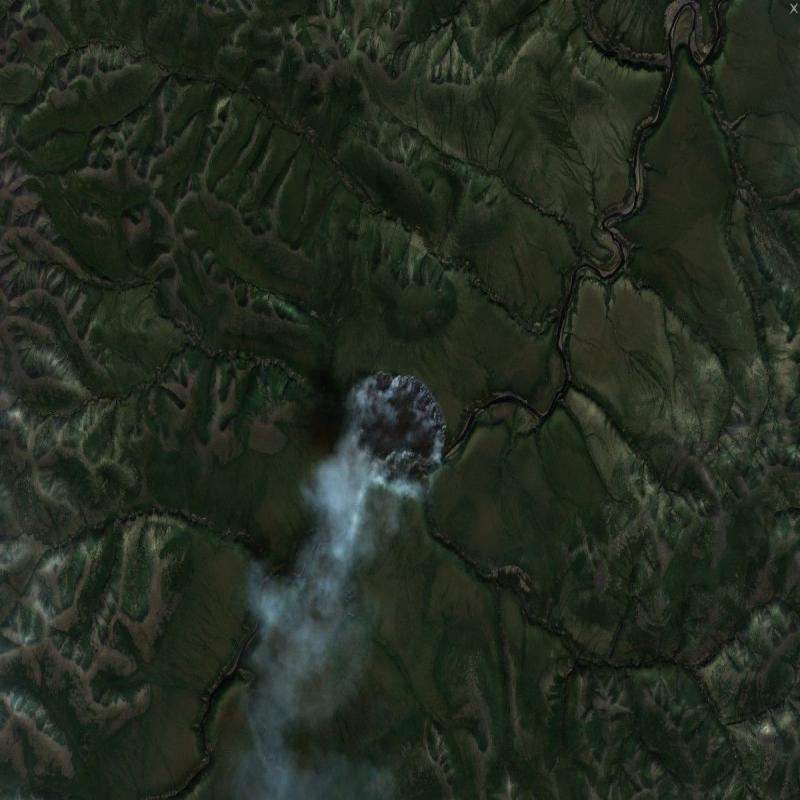fire: (352, 362, 452, 473)
